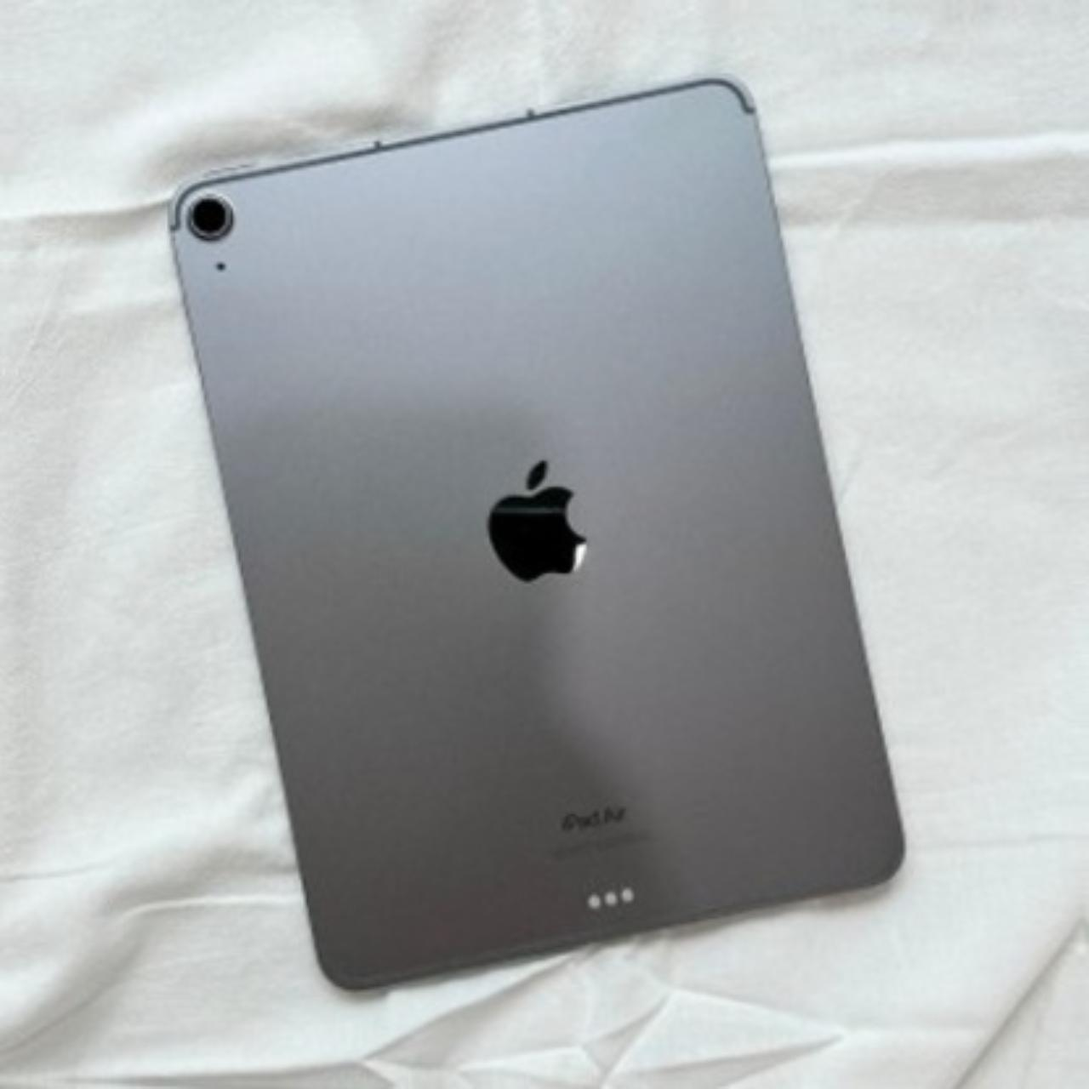Tablet_PC: (145, 66, 935, 1008)
